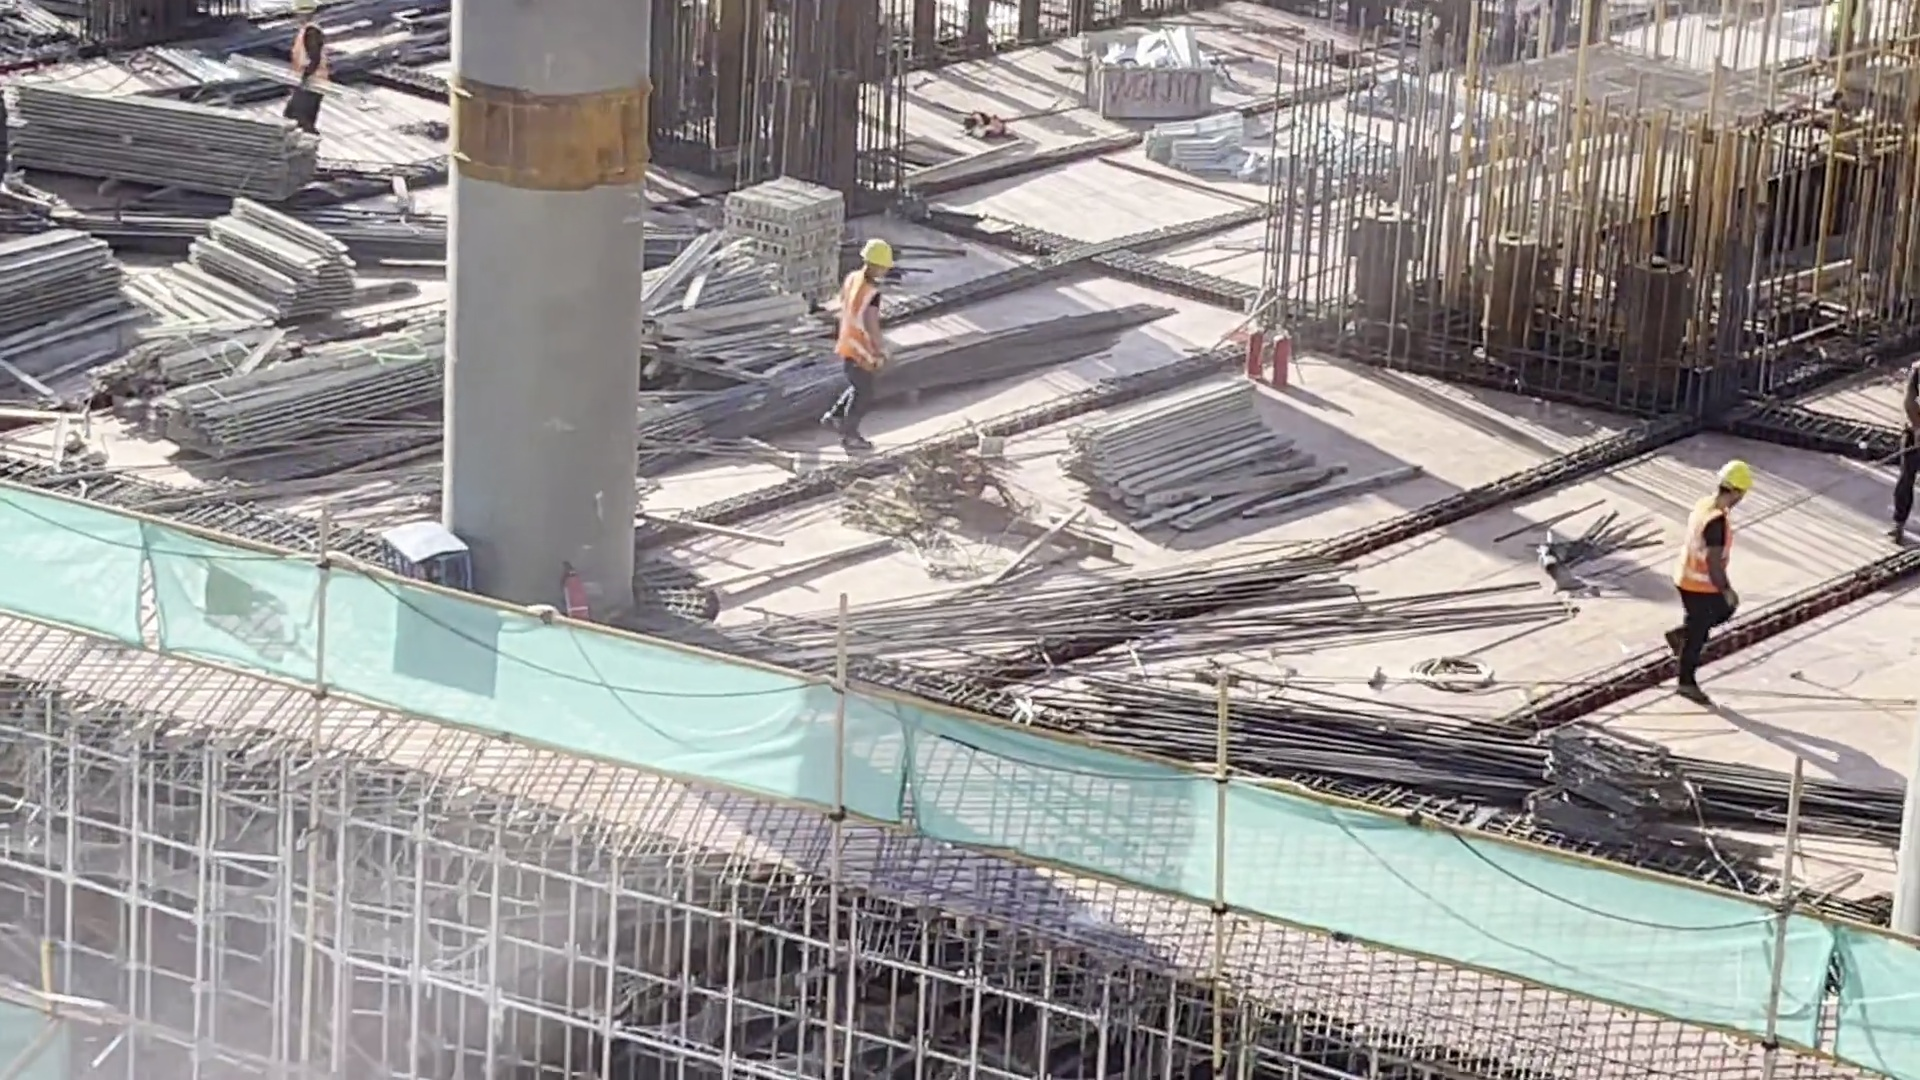helmet: (848, 227, 901, 270), (1715, 459, 1755, 498)
hopper: (1086, 13, 1228, 135)
person: (1660, 438, 1754, 713), (830, 217, 892, 450), (274, 8, 333, 146)
vest: (1675, 497, 1731, 613), (835, 267, 887, 378), (285, 24, 326, 92)
wood: (148, 302, 444, 461), (18, 69, 312, 222), (1052, 376, 1291, 543), (193, 187, 355, 323), (1, 204, 128, 342)
